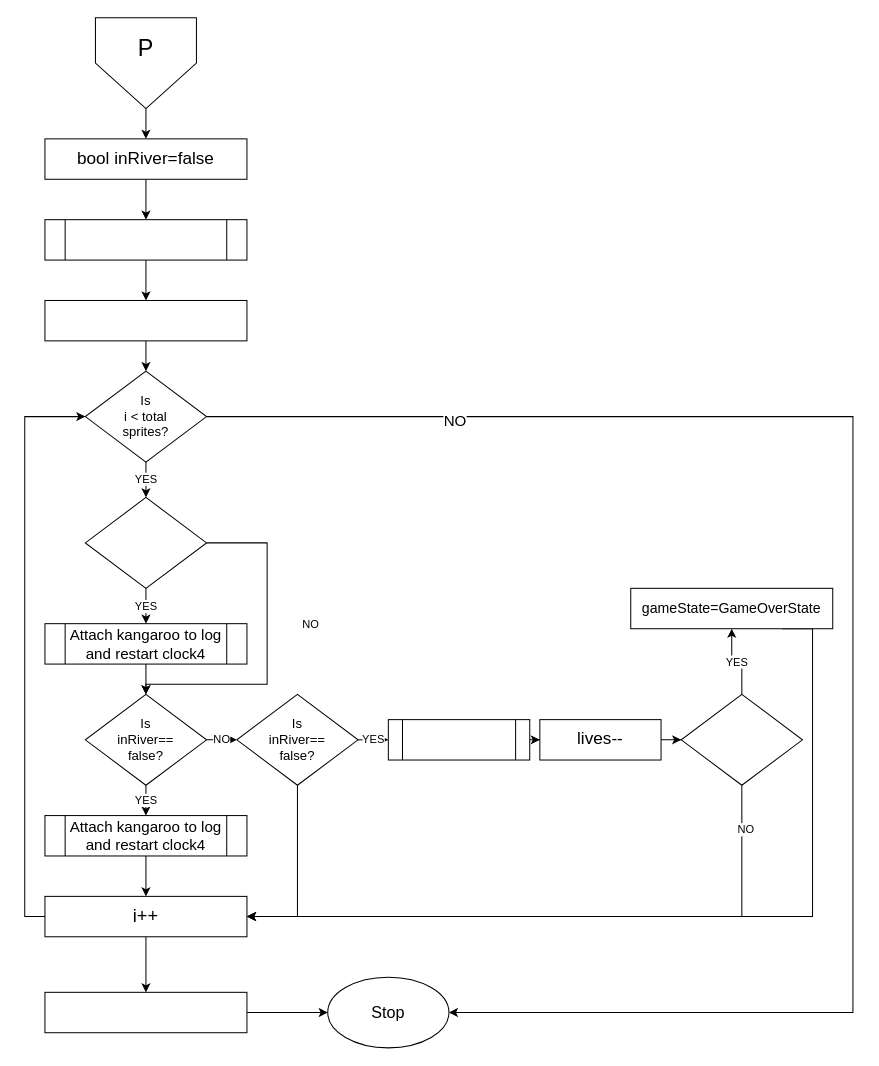
This 879x1066 diagram has some shape labels left out. The shapes that lost their labels are listed below. From the top down, each one's centre as x and y in pixels, then its label:
At (x=145, y=239): "Load log sprite".
At (x=145, y=320): "i=0".
At (x=145, y=542): "Does collision occurs?".
At (x=458, y=739): "Play Splash Sound".
At (x=741, y=739): "Is lives < 0 ?".
At (x=145, y=1012): "Update remaining lives".
